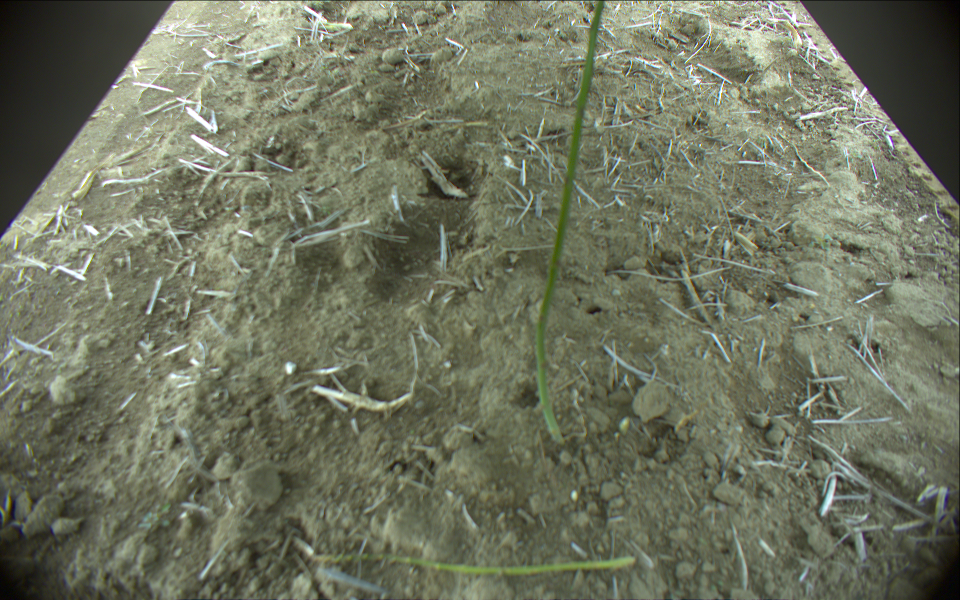aspa: (534, 1, 607, 443), (315, 555, 638, 578)
